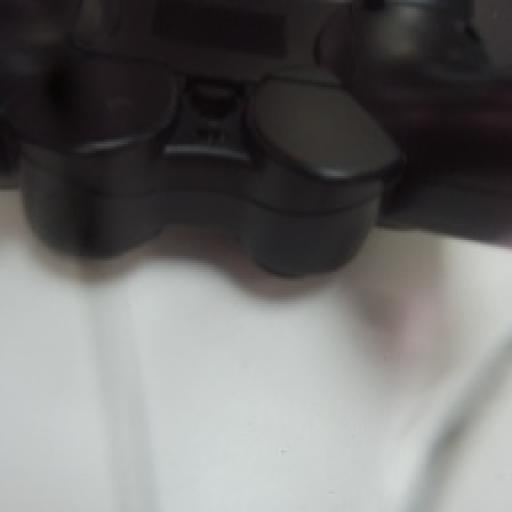game pad: (0, 0, 510, 274)
